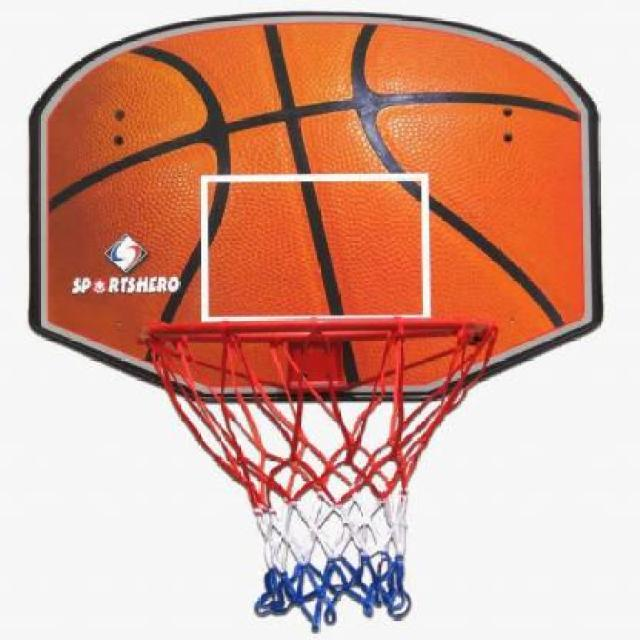rim: (142, 319, 504, 633)
